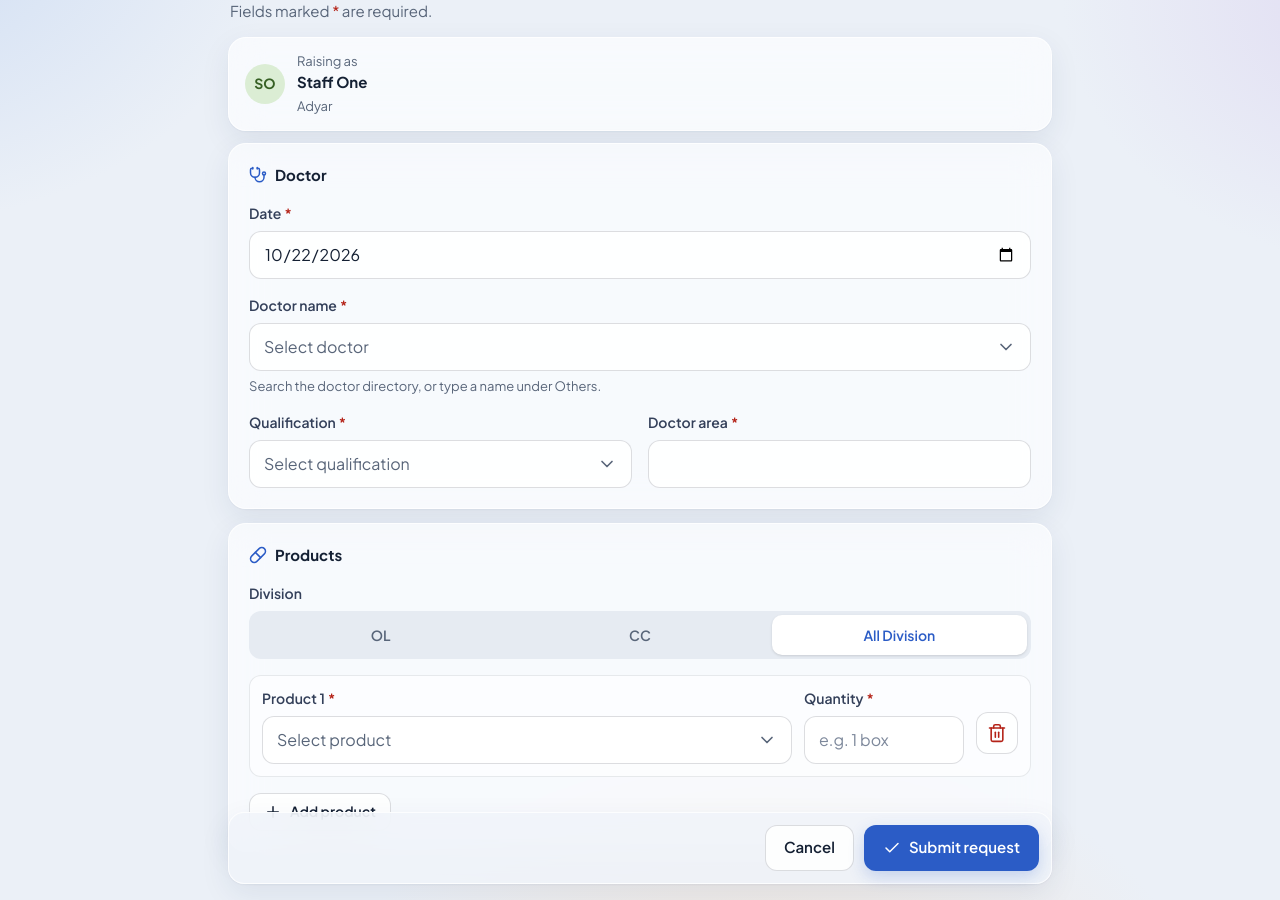
Test: Starter pack form › offers only the selected division’s products
The width and height of the screenshot is (1280, 900).
Click the radio button labelled "OL".
click(381, 634)  # box [253, 614, 508, 654]
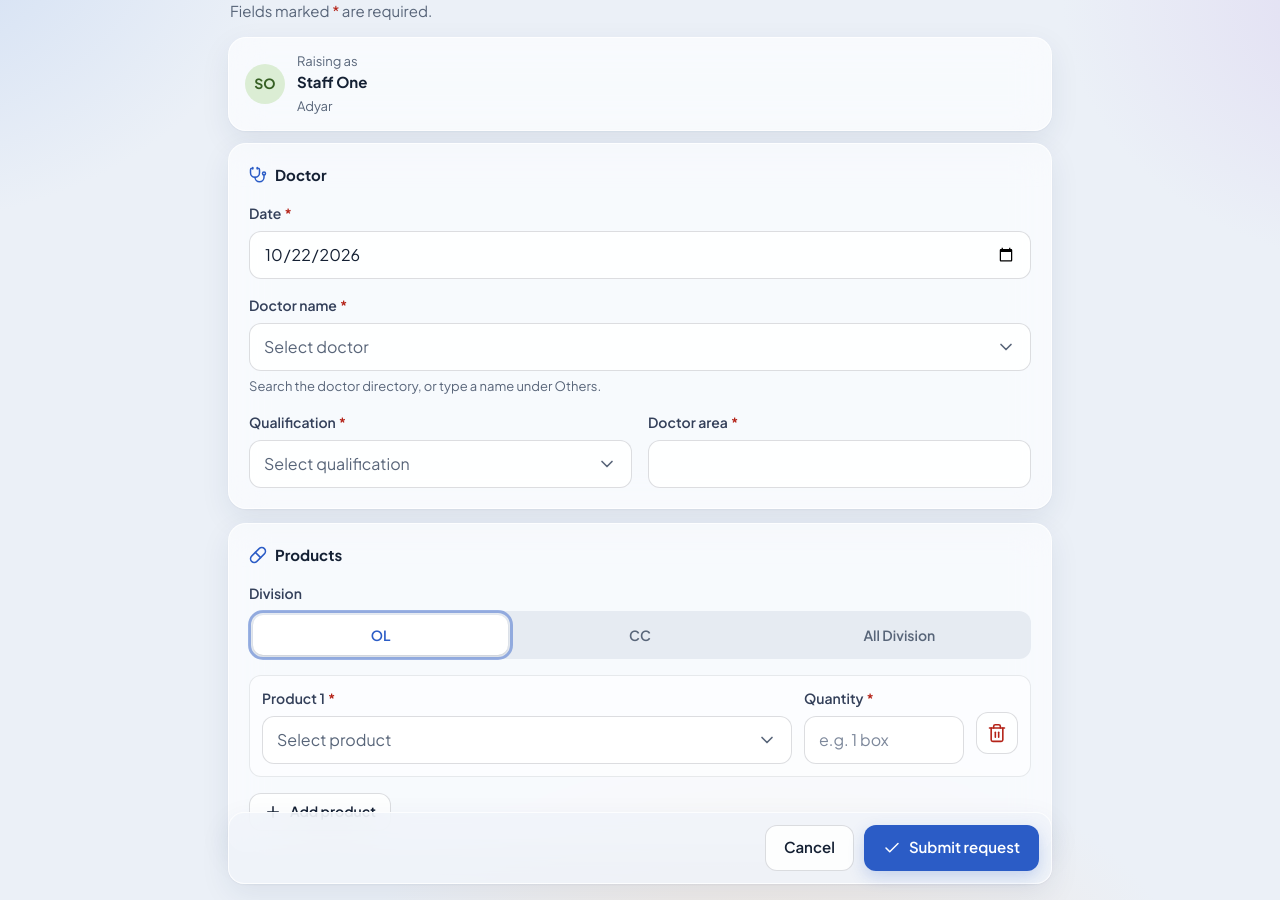
Click the button named "Product 1".
click(334, 739)  # box [262, 716, 792, 764]
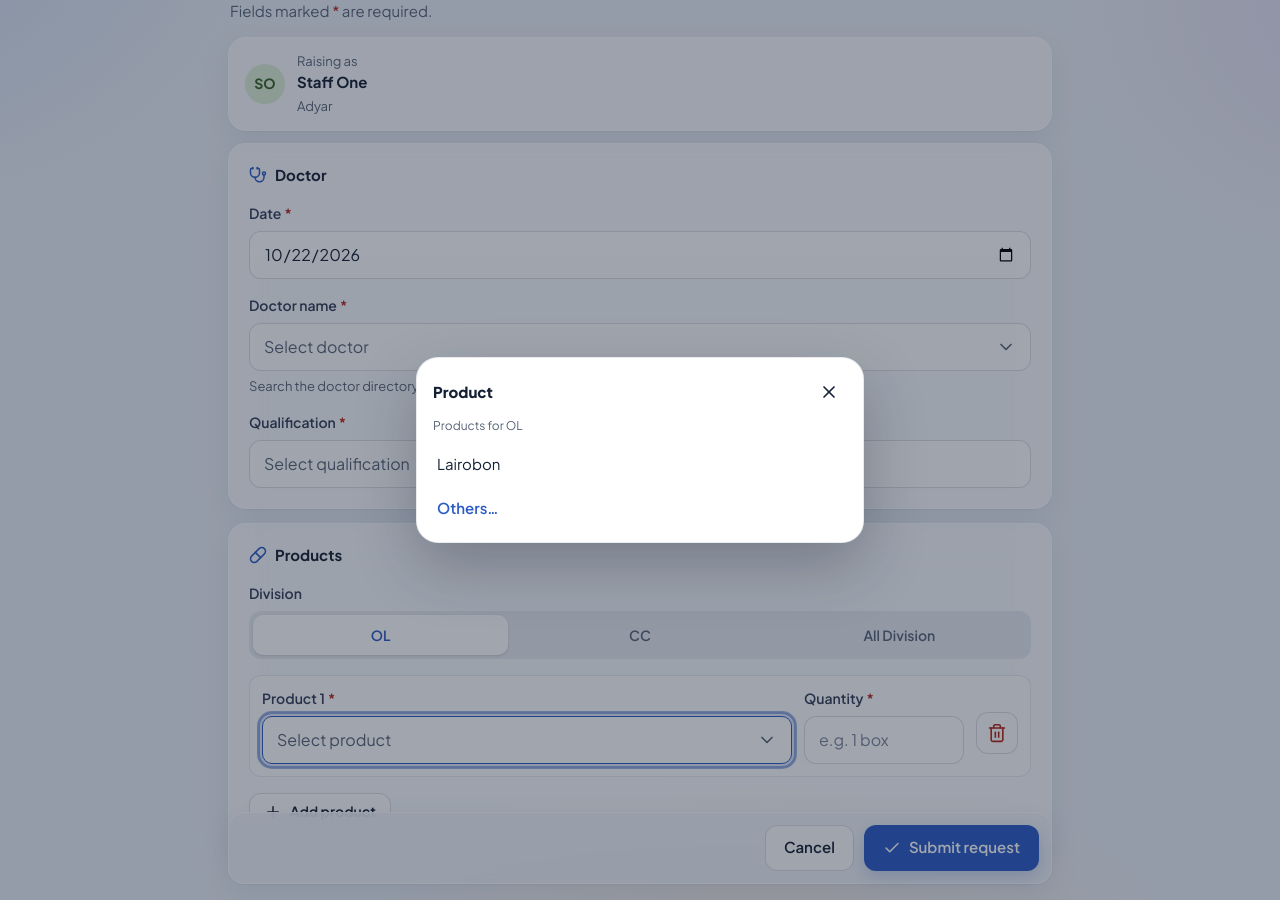
Check: the text "Lairobon" is shown, box [437, 453, 500, 475]
